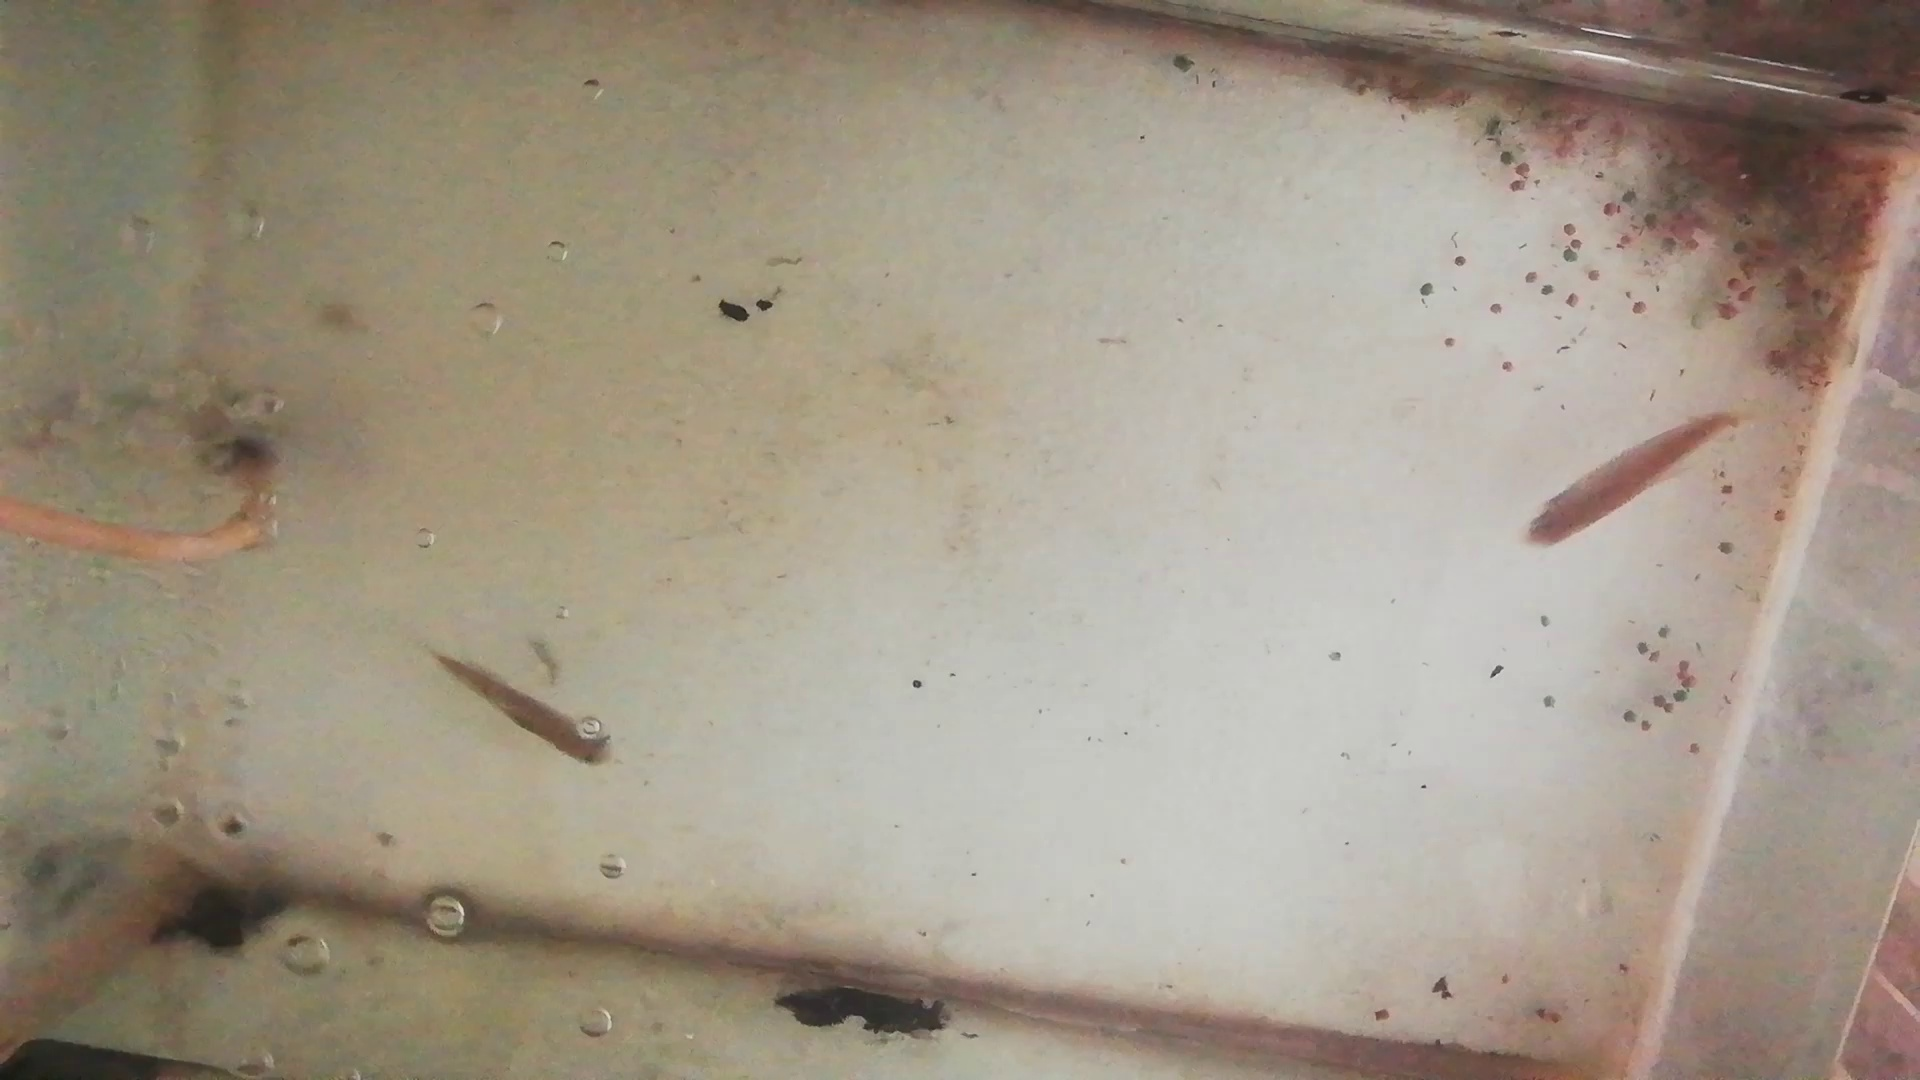fish: (1520, 409, 1733, 545), (421, 655, 608, 770)
